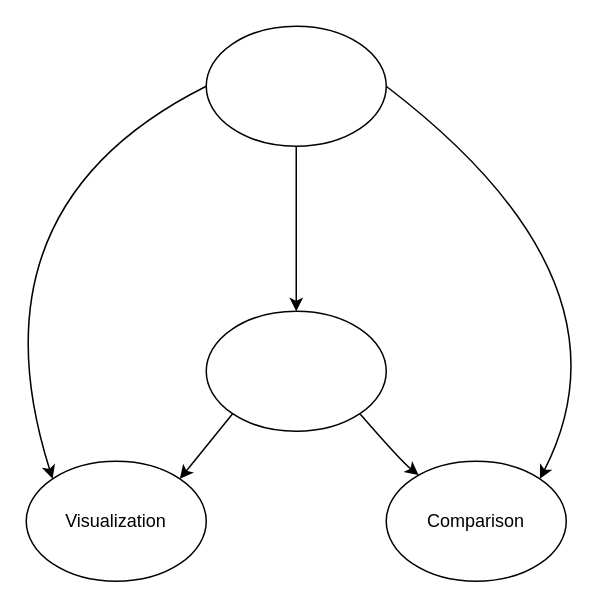
Image size: 599x608. Some labels were removed from this diagram. Here are the shapes that lost their labels. From the top down, the centre of each, then its label:
the point at 295,85: Preprocess
the point at 295,370: Clustering
